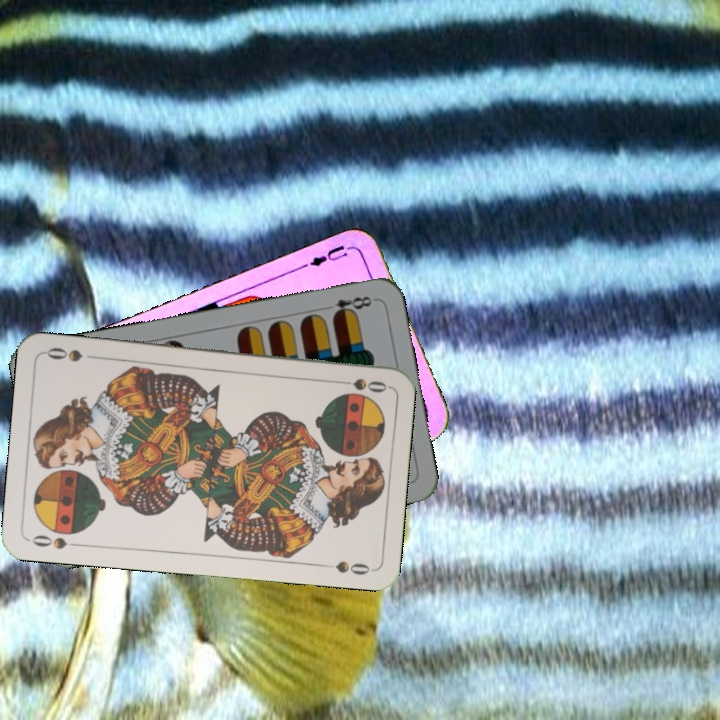E8: (319, 292, 378, 320)
EU: (305, 241, 355, 271)
SO: (330, 374, 389, 396), (28, 531, 85, 552)
